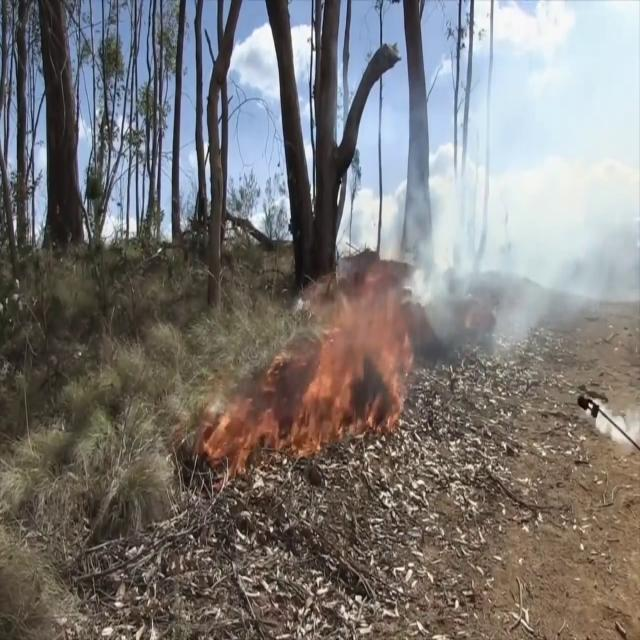Fire: (201, 238, 437, 470)
Smoke: (403, 57, 640, 372)
